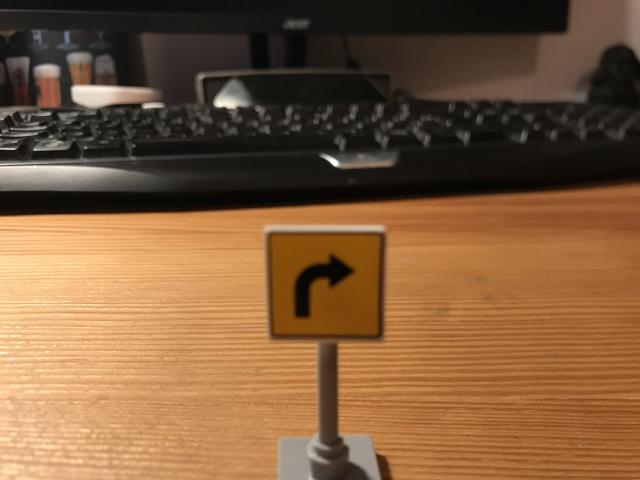fahrtrichtung rechts: (267, 224, 390, 341)
